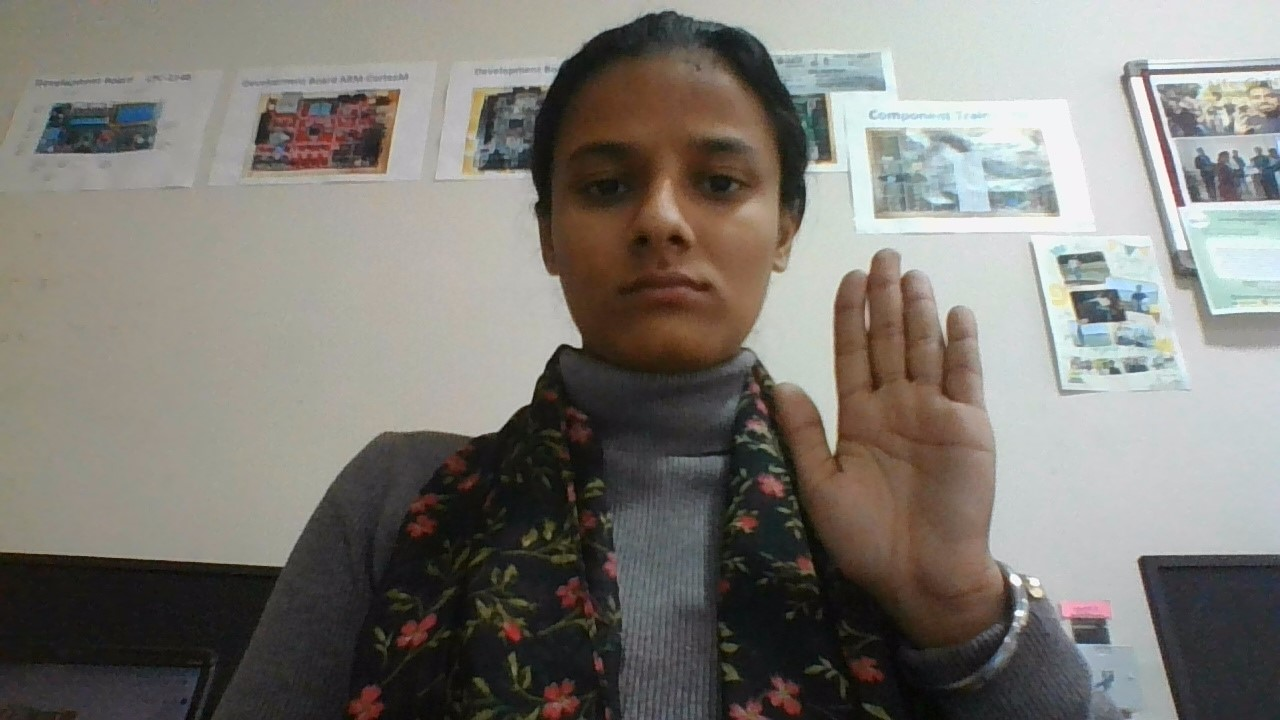Hello: (754, 245, 1091, 668)
